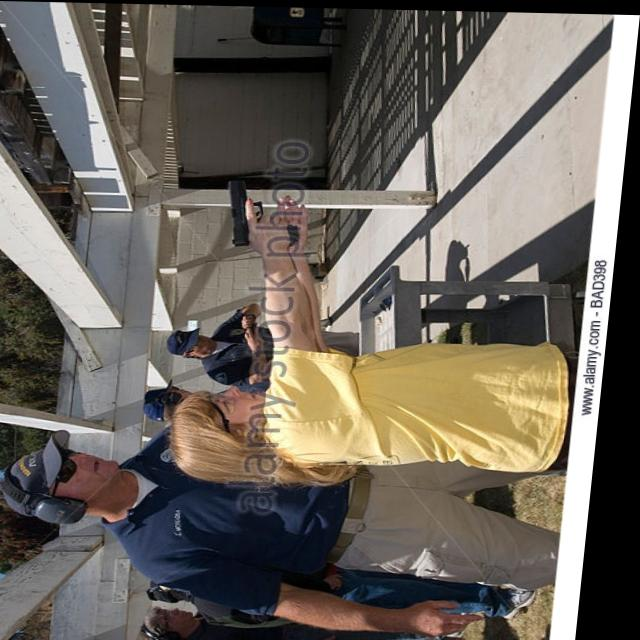handgun: (224, 175, 310, 247)
